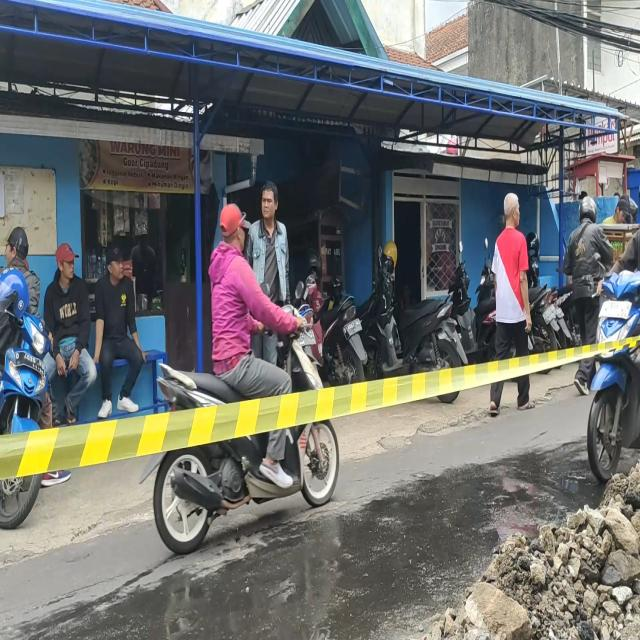no-helmet: (221, 209, 244, 249)
